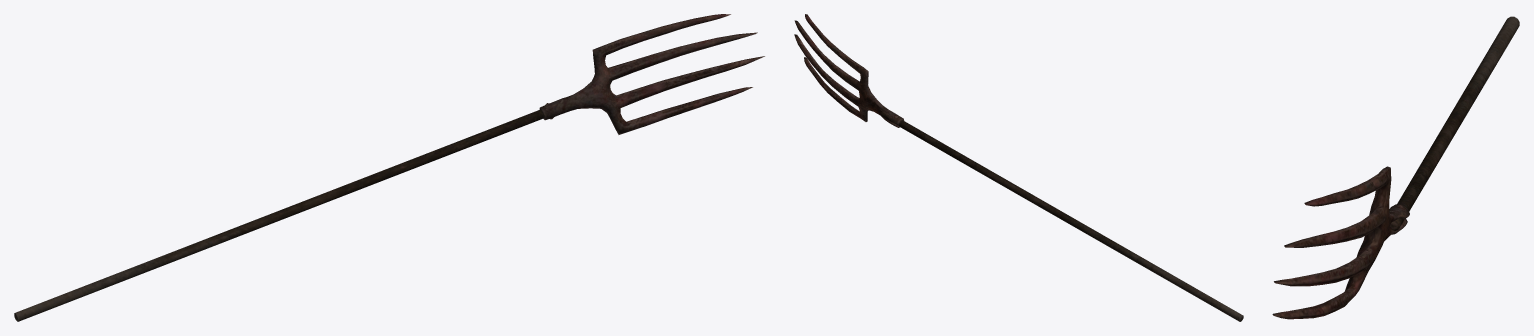
The model's file is tillagemon_horquilla.obj.
The picture shows the model from 3 angles, left to right: view 1: azimuth 30°, elevation 25°; view 2: azimuth 150°, elevation 25°; view 3: azimuth 270°, elevation 25°; orthographic projection. The views are drawn at different scales.
Visible parts, largest first — view 1: horquilla; view 2: horquilla; view 3: horquilla.
Part boxes in pixels (x1,y1,x2,y2): horquilla: [14, 14, 764, 321]; horquilla: [794, 14, 1243, 321]; horquilla: [1272, 16, 1519, 319].
Bounding box in the file's own units: 19.3 × 5.48 × 4.07.
